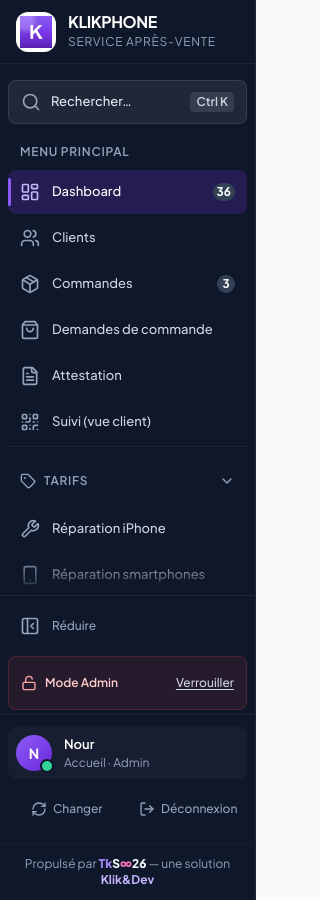
Test: Navbar : verrouillage, badges, avis Google › « Verrouiller » révoque aussi la preuve côté serveur (api.lockAdmin)
Click the button "Verrouiller": (205, 683) [168, 661, 242, 705]
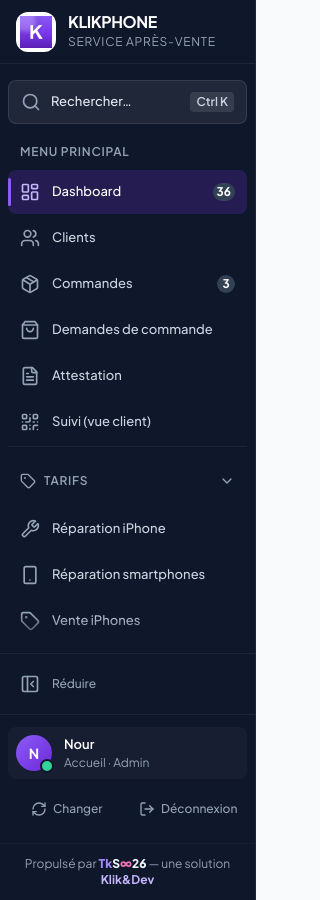
Now the button "Verrouiller" is gone
